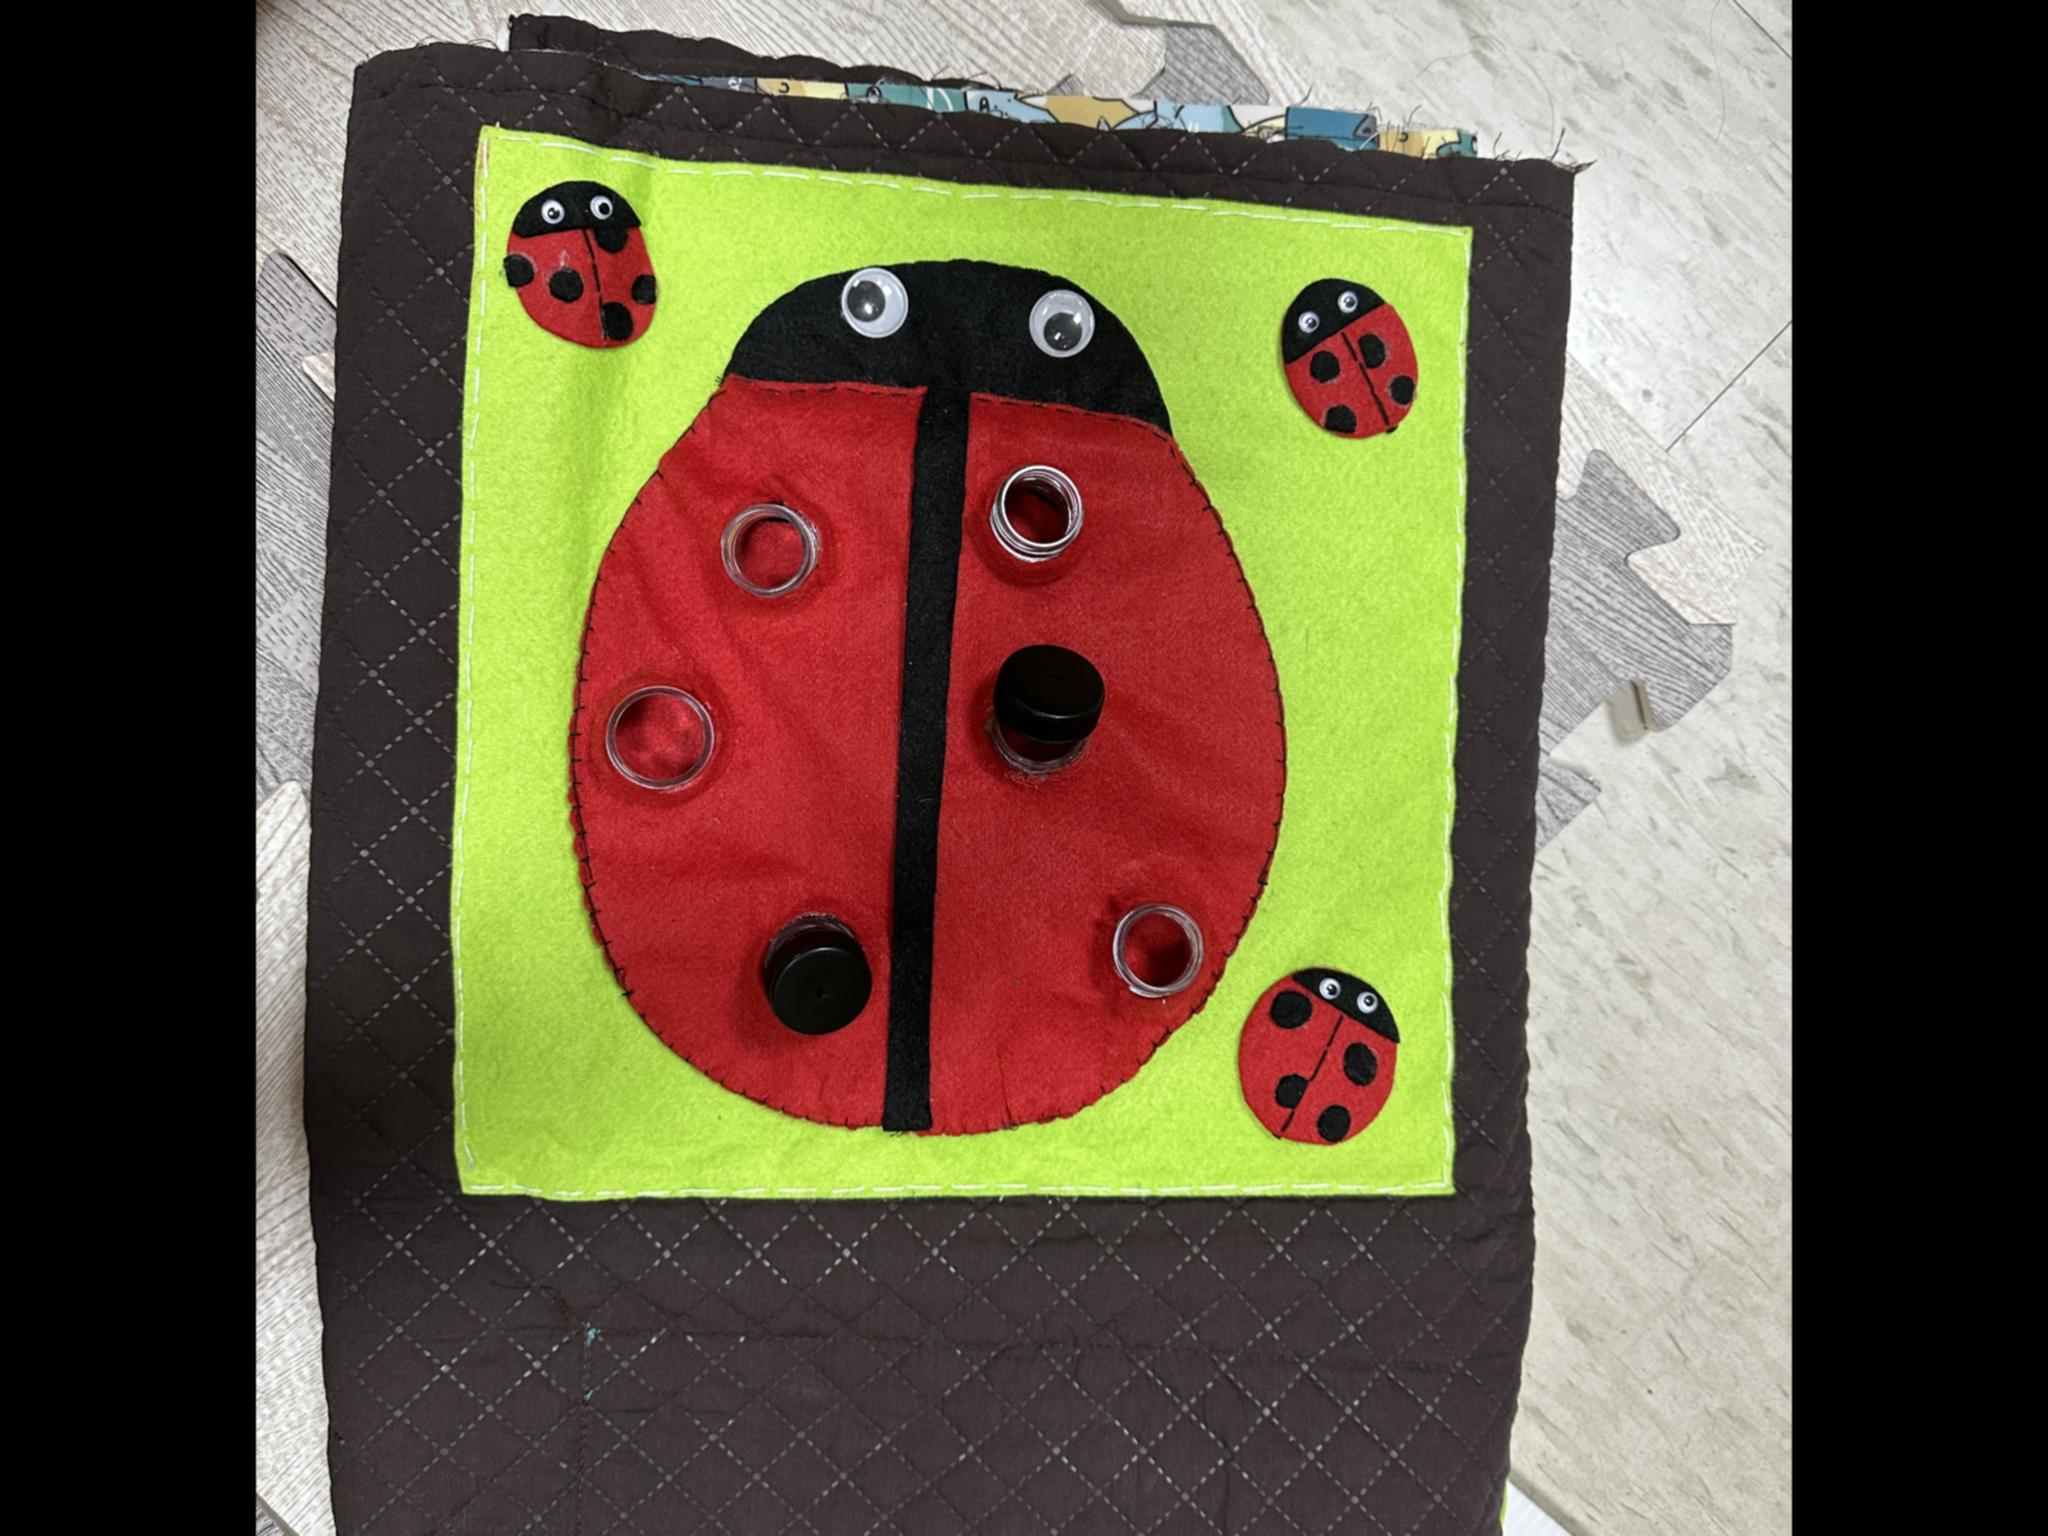cap_ng: (969, 637, 1106, 803), (745, 904, 879, 1058)
